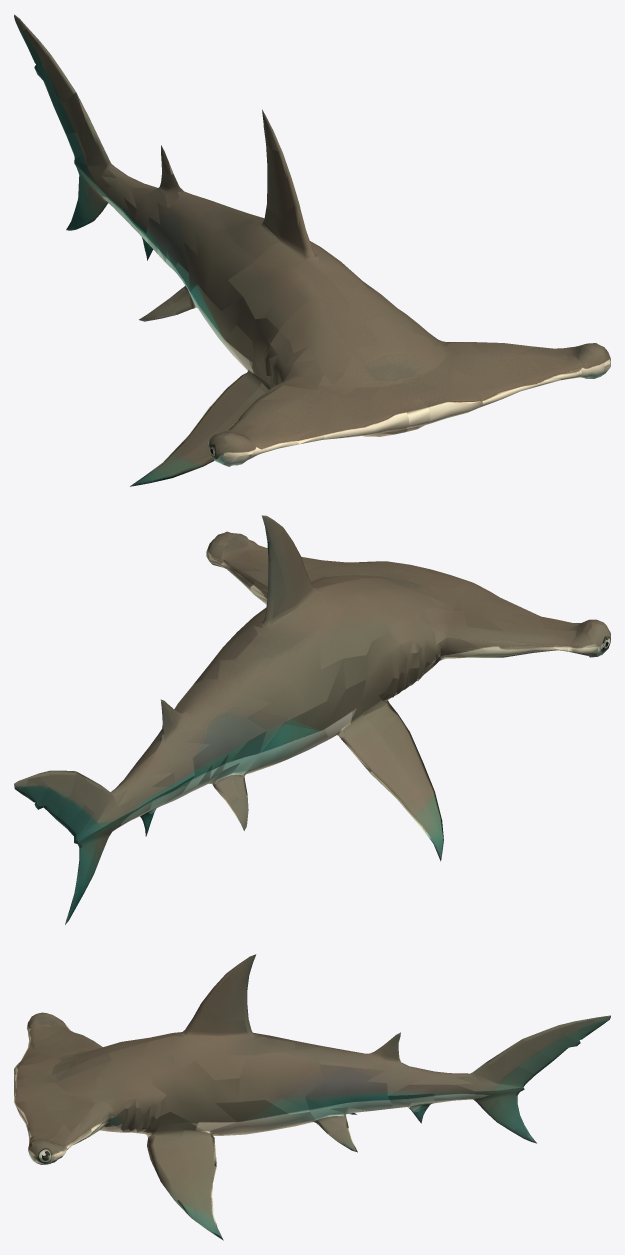
3 views of the same model, one above another, from view 1: azimuth 30°, elevation 25°; view 2: azimuth 150°, elevation 25°; view 3: azimuth 270°, elevation 25° (orthographic). The views are drawn at different scales.
Bounding box in the file's own units: 0.5488 × 0.4287 × 1.
Materials: 1 (1 with a texture image).
